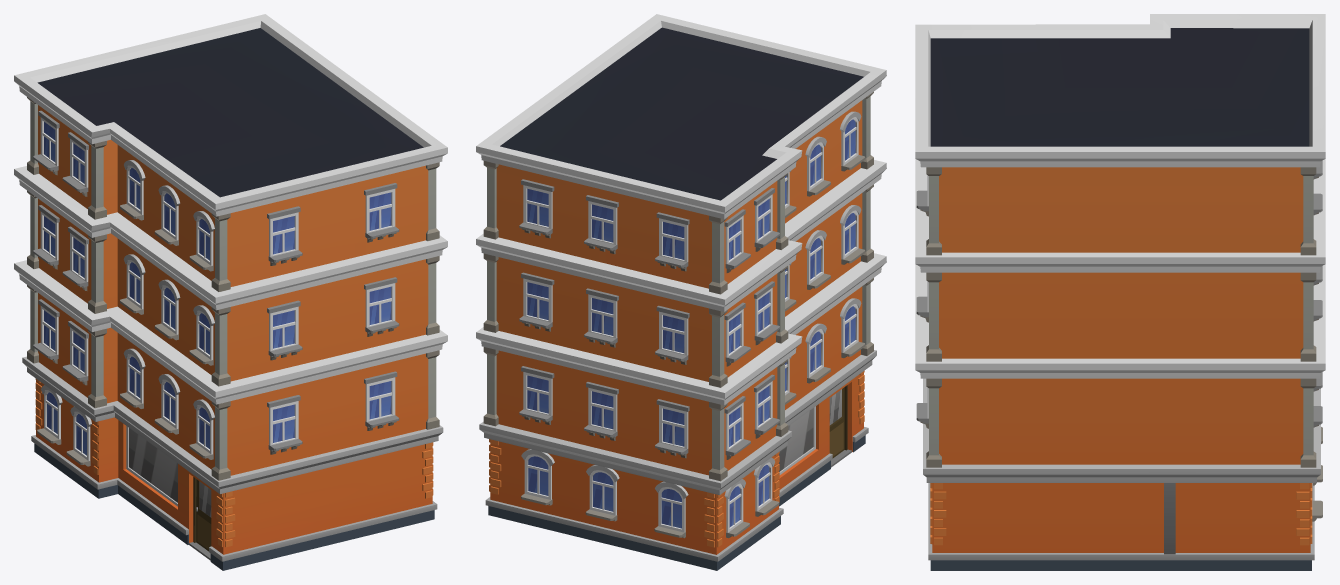
File: Building_1_4_F.fbx
3 views of the same model, side by side, from view 1: azimuth 30°, elevation 25°; view 2: azimuth 150°, elevation 25°; view 3: azimuth 270°, elevation 25° (orthographic). The views are drawn at different scales.
Parts seen in each view (by area): view 1: Building_1_4_F; view 2: Building_1_4_F; view 3: Building_1_4_F.
Boxes of the visible parts, bbox=[...] form: Building_1_4_F: bbox=[14, 14, 447, 570]; Building_1_4_F: bbox=[476, 14, 886, 570]; Building_1_4_F: bbox=[915, 14, 1325, 570].
Bounding box in the file's own units: 841 × 1201 × 1057.
